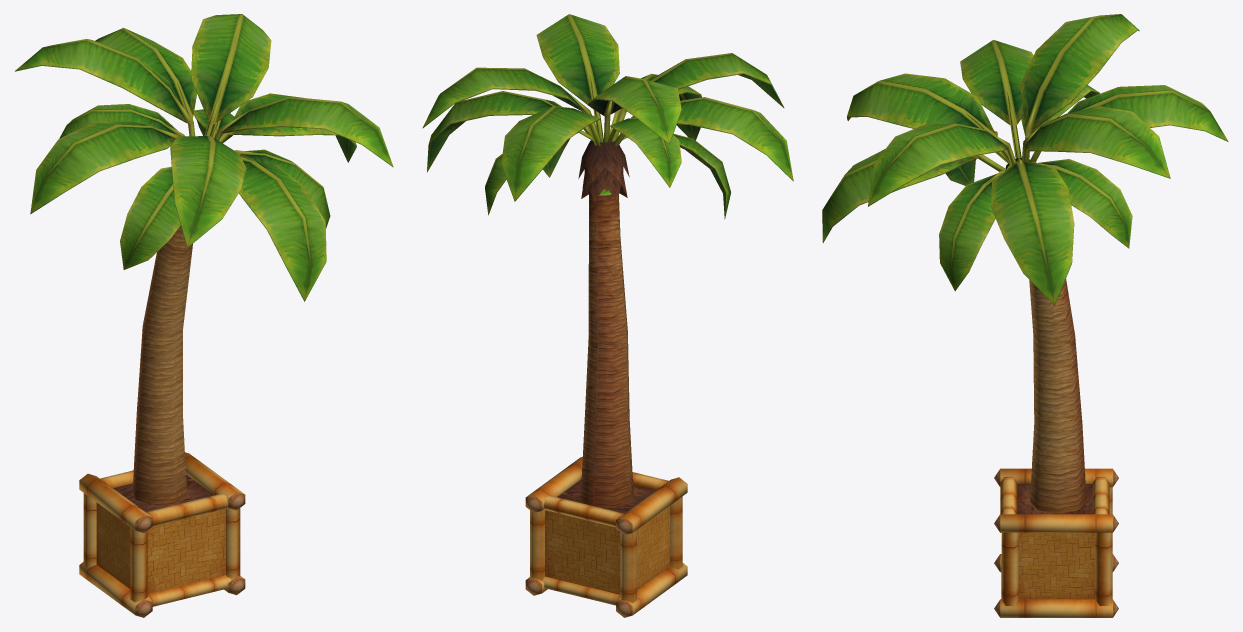
File: Pot_Palmtree_02.fbx
The picture shows the model from 3 angles, left to right: view 1: azimuth 30°, elevation 25°; view 2: azimuth 150°, elevation 25°; view 3: azimuth 270°, elevation 25°; orthographic projection. The views are drawn at different scales.
Visible parts, largest first — view 1: Pot_Palmtree_02; view 2: Pot_Palmtree_02; view 3: Pot_Palmtree_02.
Part boxes in pixels (bbox=[...]): Pot_Palmtree_02: bbox=[15, 14, 393, 617]; Pot_Palmtree_02: bbox=[422, 14, 793, 617]; Pot_Palmtree_02: bbox=[822, 14, 1228, 617].
Bounding box in the file's own units: 0.8899 × 1.34 × 0.8984.
